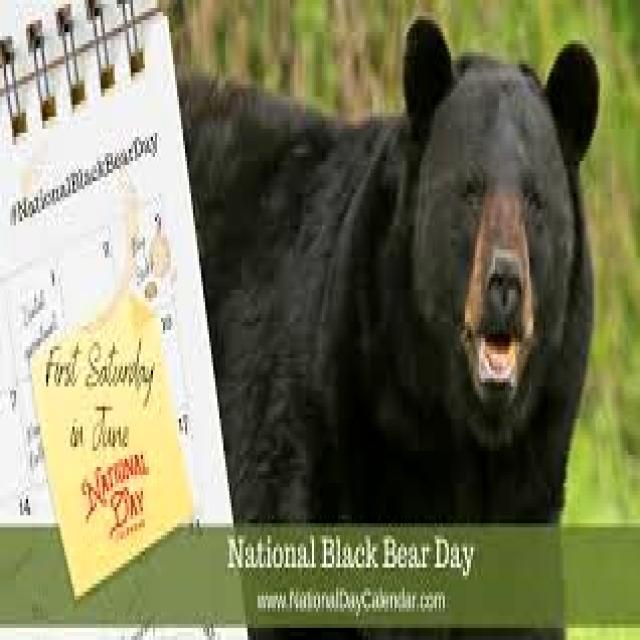bear: (265, 17, 594, 520)
